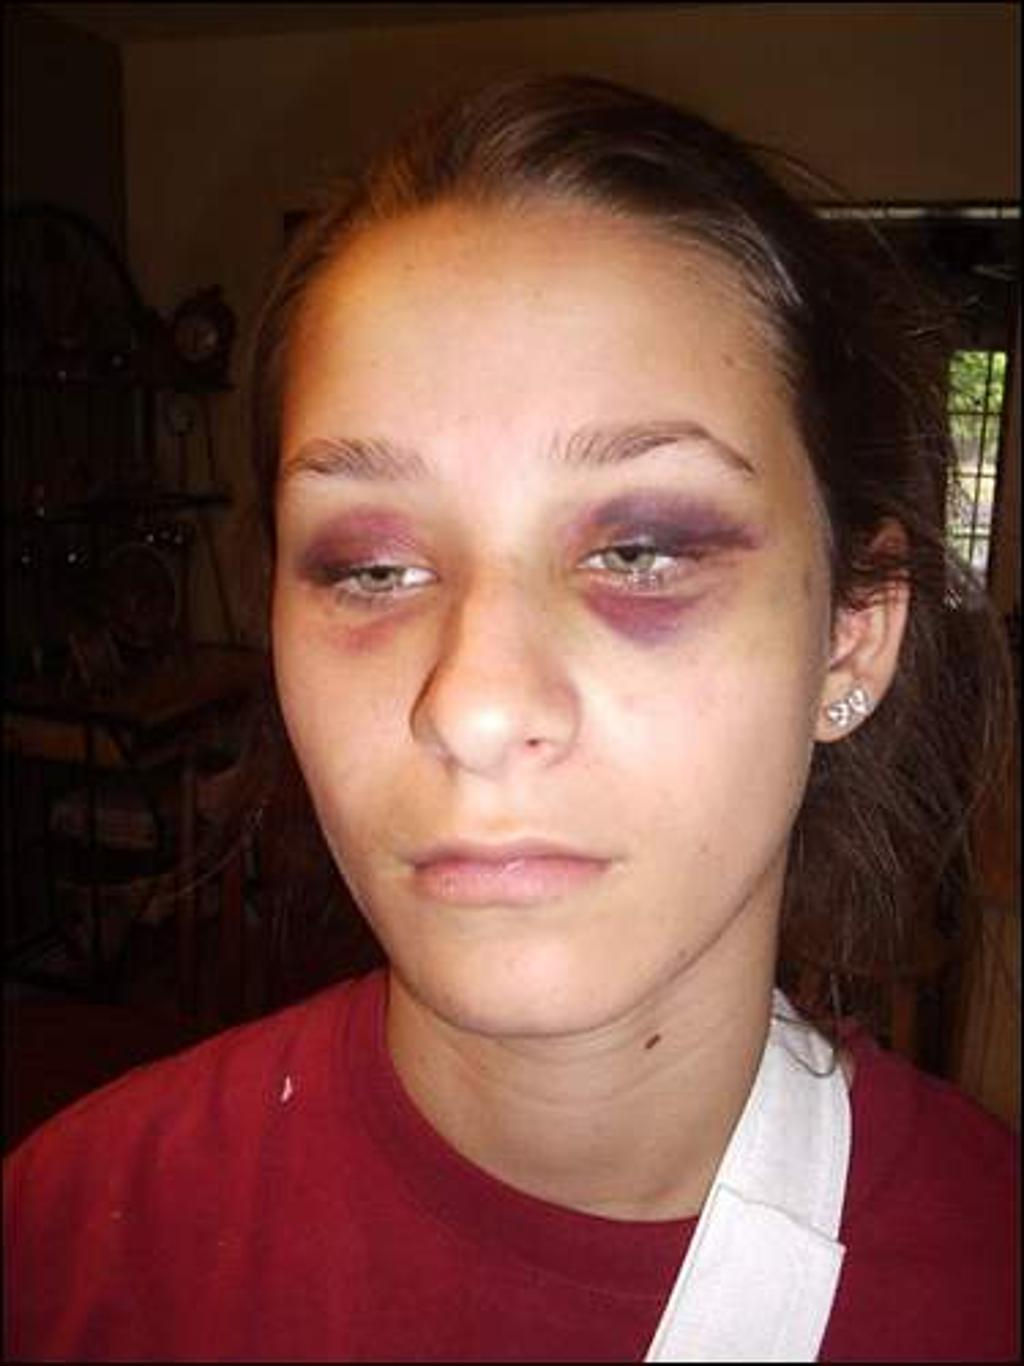face: (275, 208, 835, 1032)
